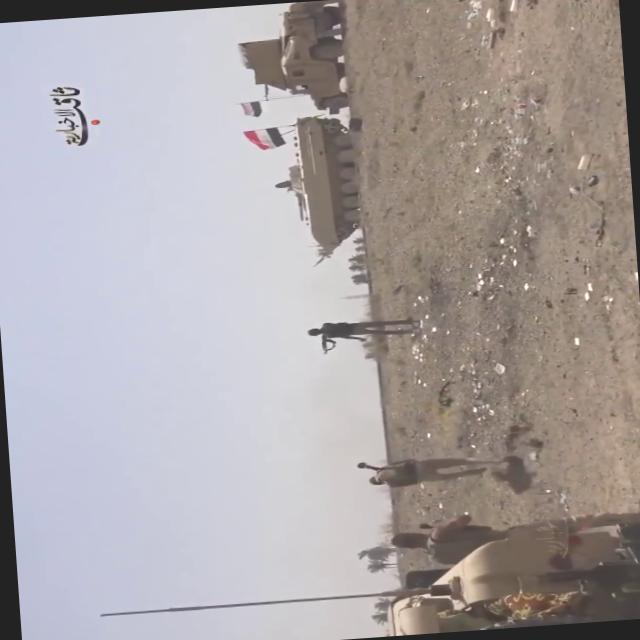long weapon: (314, 332, 342, 358)
